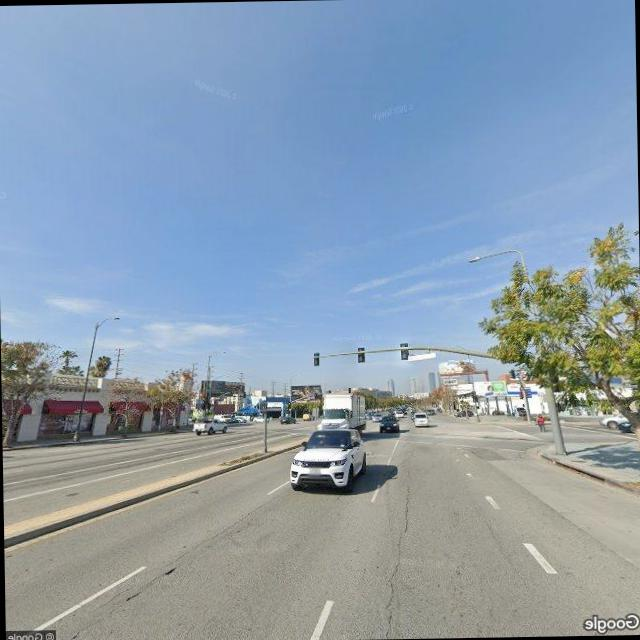pothole: (378, 477, 421, 638)
